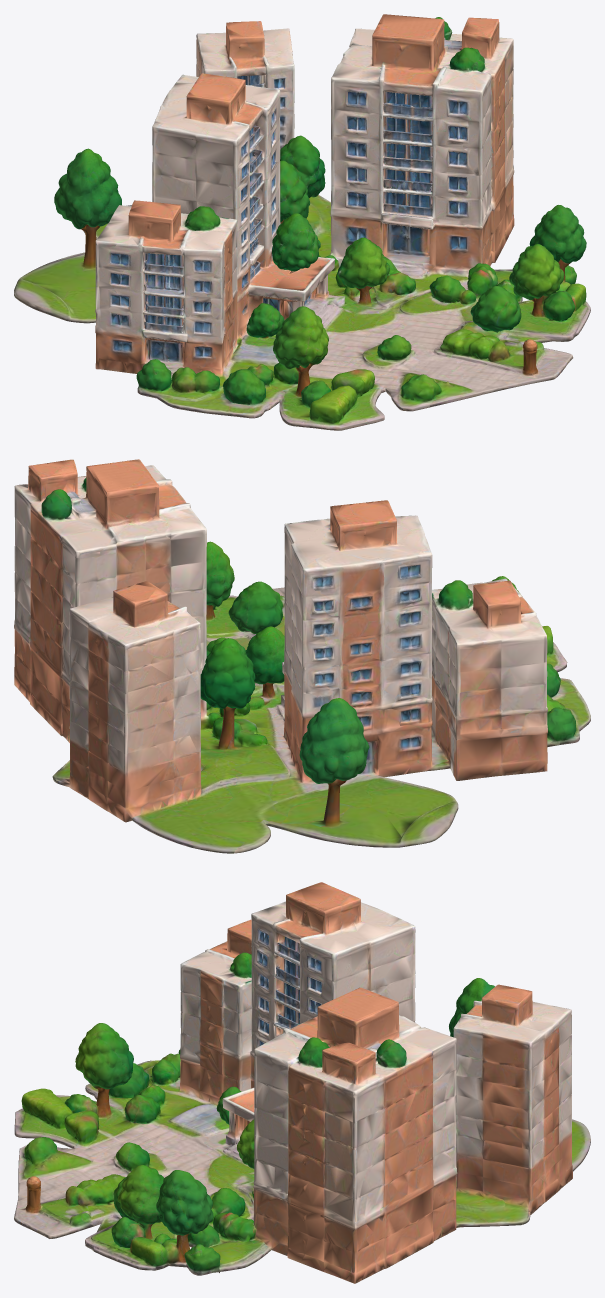
The model's file is apartment.glb.
The picture shows the model from 3 angles, top to bottom: view 1: azimuth 30°, elevation 25°; view 2: azimuth 150°, elevation 25°; view 3: azimuth 270°, elevation 25°; orthographic projection. The views are drawn at different scales.
Size of the model in its own units: 1.79 by 0.8593 by 1.9.
1 material, 1 textured.
